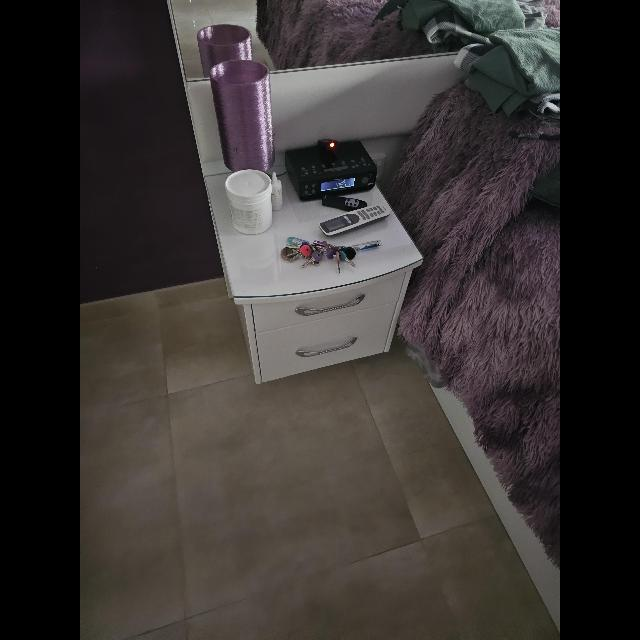Keys: (279, 238, 366, 274)
